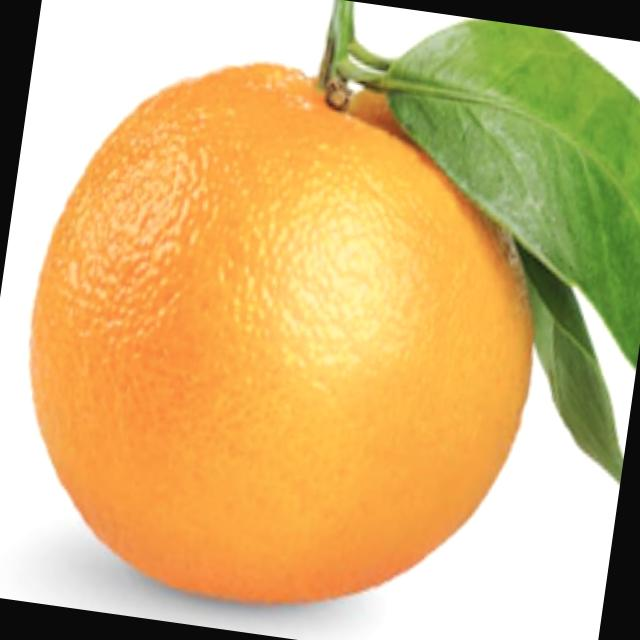orange: (0, 38, 570, 640)
